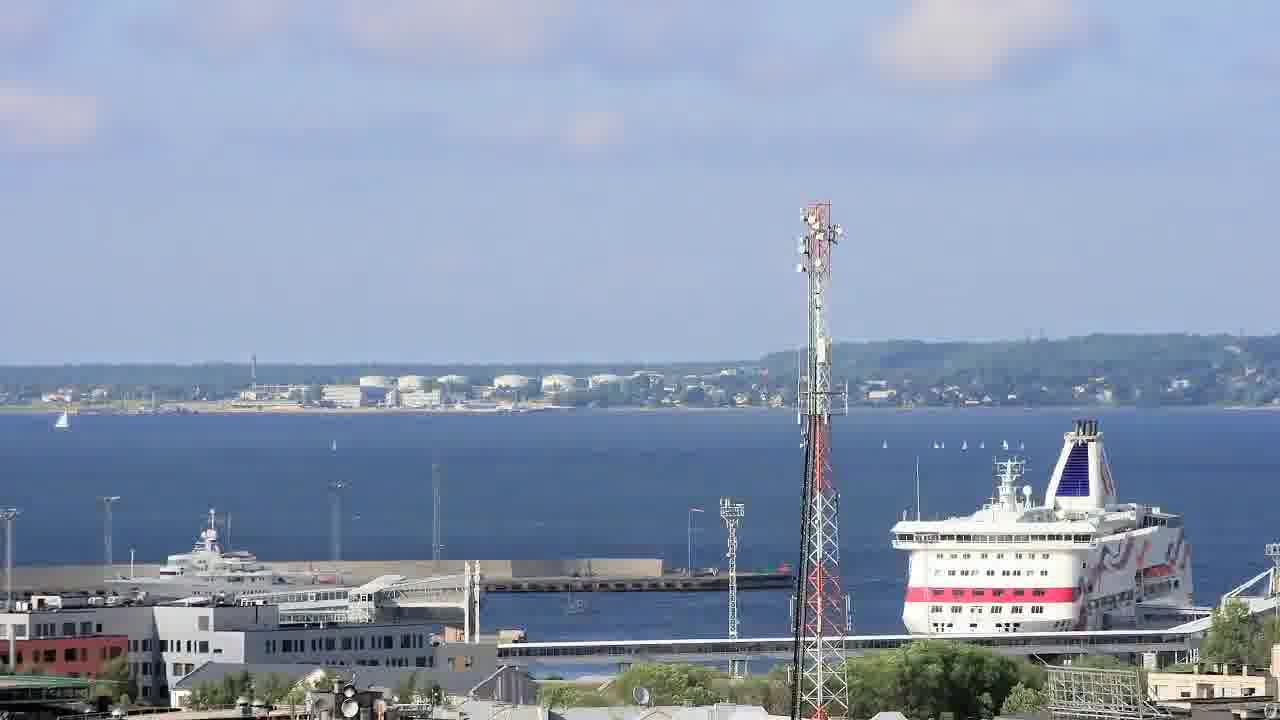type-2: (39, 389, 87, 445)
type-3: (868, 415, 1225, 638), (84, 537, 359, 610)
